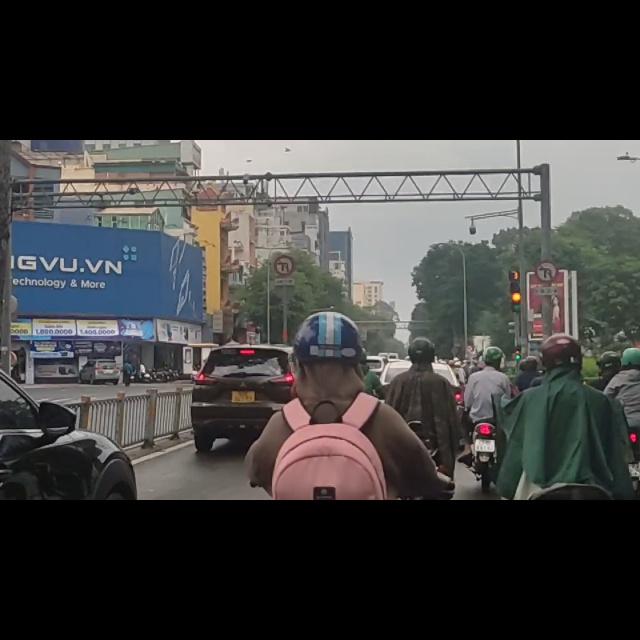bien_cam: (539, 217, 558, 256), (275, 204, 295, 239)
